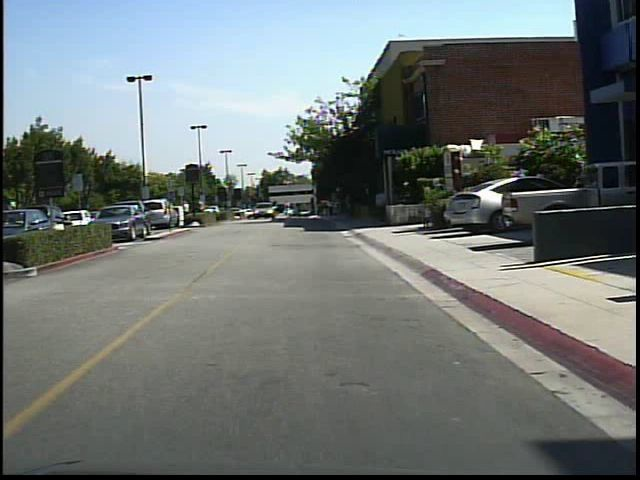person: (177, 194, 193, 225), (279, 196, 293, 223)
